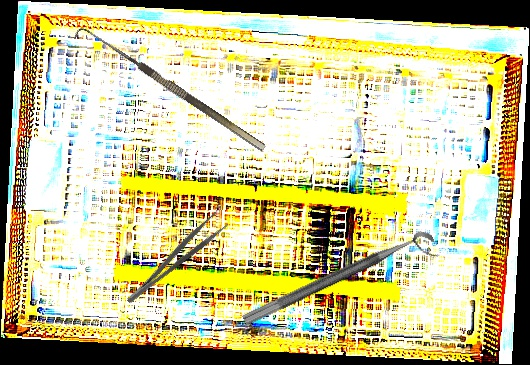Dressing Forceps: (118, 209, 230, 307)
Fixation Ring: (241, 226, 441, 343)
Hook Surgical: (72, 21, 267, 162)
